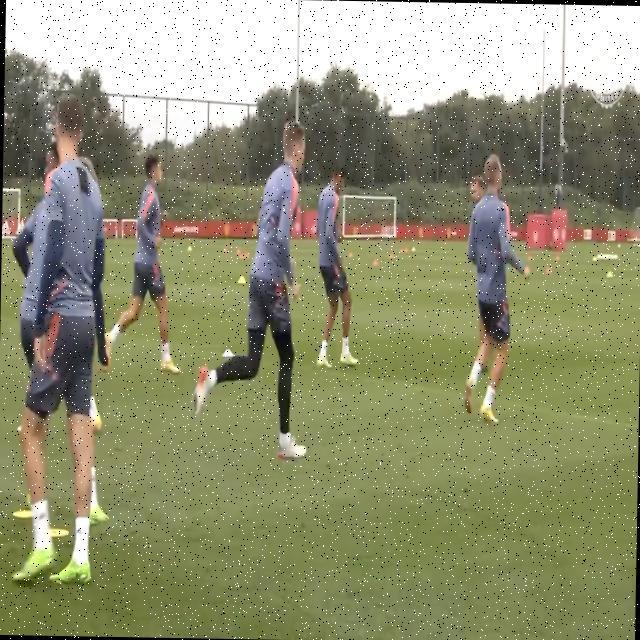Adidas: (2, 218, 25, 238)
